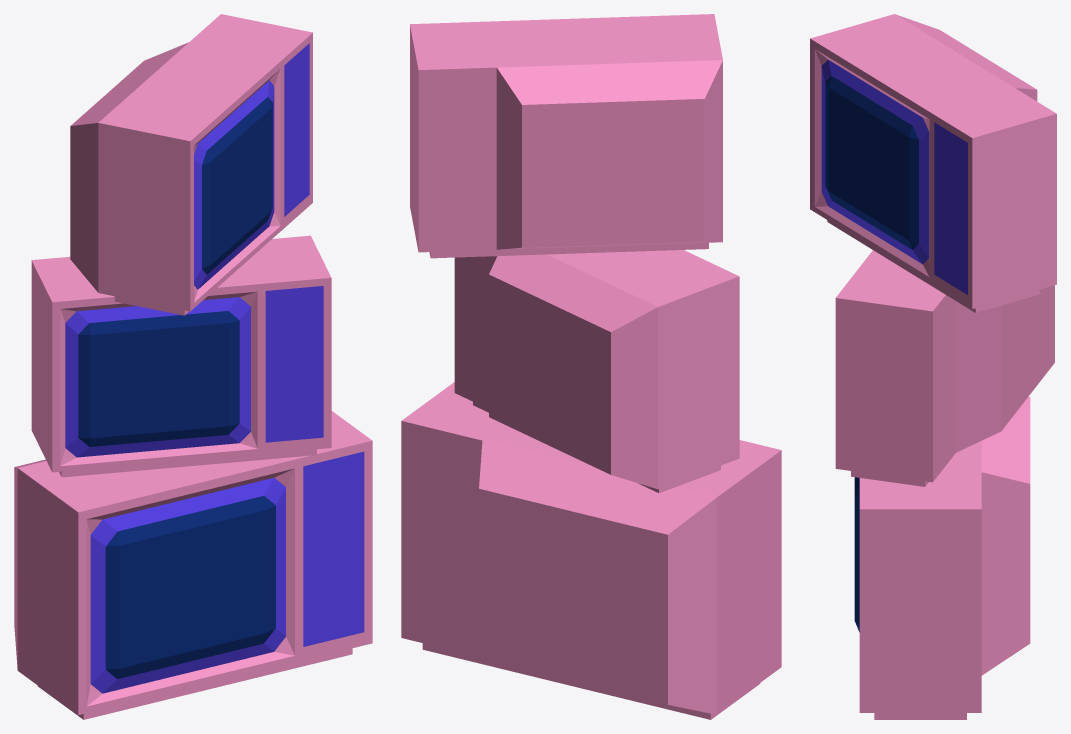
The model's file is 045_OldTV.fbx.
The picture shows the model from 3 angles, left to right: view 1: azimuth 30°, elevation 25°; view 2: azimuth 150°, elevation 25°; view 3: azimuth 270°, elevation 25°; orthographic projection. The views are drawn at different scales.
Visible parts, largest first — view 1: OldTV; view 2: OldTV; view 3: OldTV.
Part boxes in pixels (x1,y1,x2,y2): OldTV: (14, 14, 372, 719); OldTV: (401, 14, 781, 719); OldTV: (810, 14, 1056, 719).
Size of the model in its own units: 52.29 by 99.12 by 37.81.
